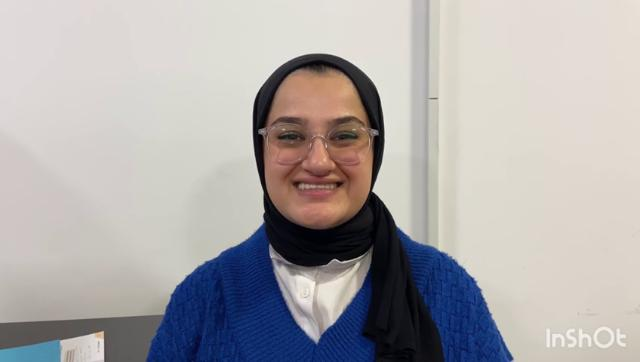senang: (261, 65, 379, 233)
